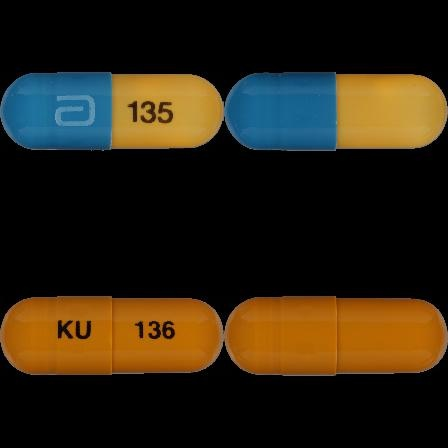54868-5986: (0, 0, 224, 224)
